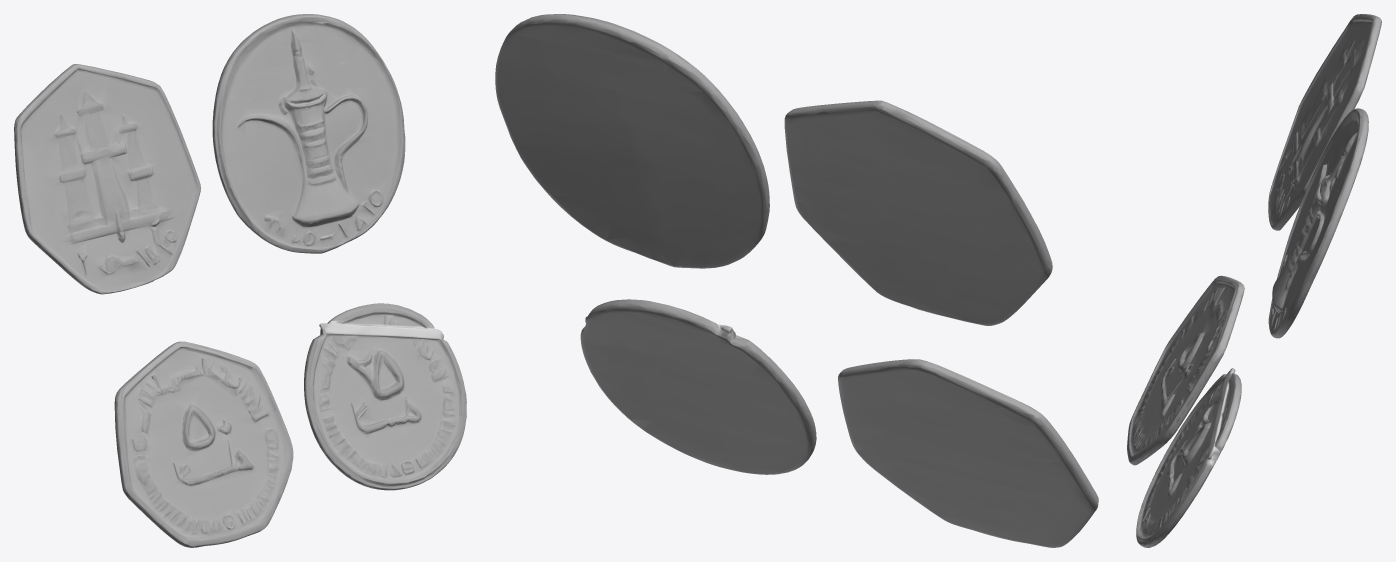
Rendered from coins.fbx.
3 views of the same model, side by side, from view 1: azimuth 30°, elevation 25°; view 2: azimuth 150°, elevation 25°; view 3: azimuth 270°, elevation 25° (orthographic). The views are drawn at different scales.
Parts seen in each view (by area): view 1: material; view 2: material; view 3: material.
Boxes of the visible parts, bbox=[...] form: material: bbox=[14, 14, 466, 547]; material: bbox=[495, 14, 1098, 547]; material: bbox=[1127, 14, 1381, 547].
Bounding box in the file's own units: 0.7015 × 0.7063 × 0.3911.
Materials: 1 (1 with a texture image).
